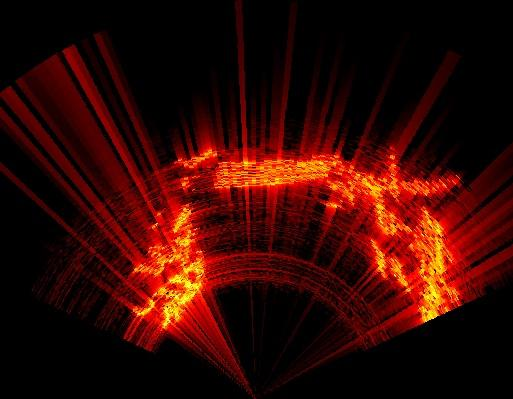shipwreck: (214, 154, 458, 321), (131, 206, 205, 327), (179, 149, 220, 169)
